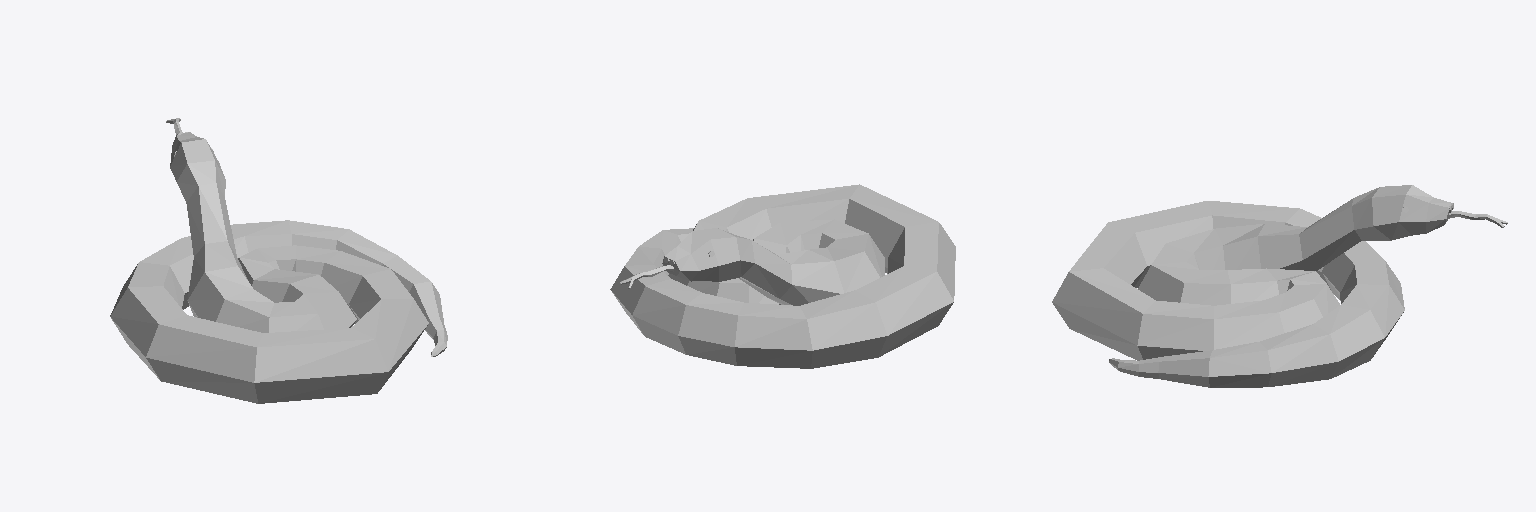
The model's file is snake.obj.
3 renders of one model, left to right at view 1: azimuth 30°, elevation 25°; view 2: azimuth 150°, elevation 25°; view 3: azimuth 270°, elevation 25°, orthographic.
Parts seen in each view (by area): view 1: group[number redacted]; view 2: group[number redacted]; view 3: group[number redacted].
Boxes of the visible parts, box(x1,y1,x2,y2) form: group[number redacted]: box(110, 132, 447, 403); group[number redacted]: box(610, 184, 955, 368); group[number redacted]: box(1052, 185, 1450, 387).
Size of the model in its own units: 1 by 0.4382 by 1.34.